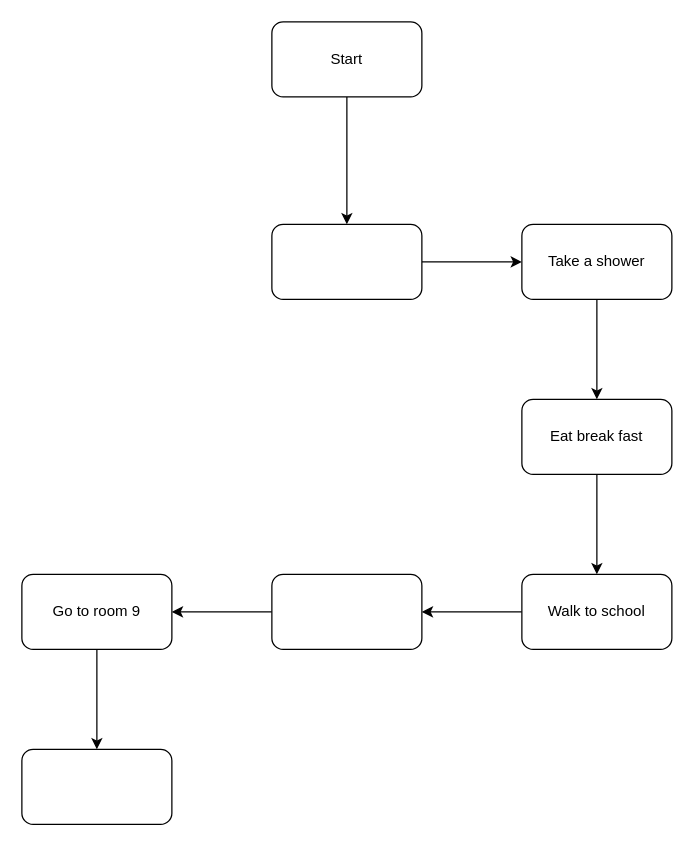
The diagram is 694 pixels wide and 846 high, and some of its shapes have lost their labels. The centre of each missing label's shape, as x and y in pixels:
End: the point at 96,786
Scan studentcard: the point at 346,611
Wake up: the point at 346,261
